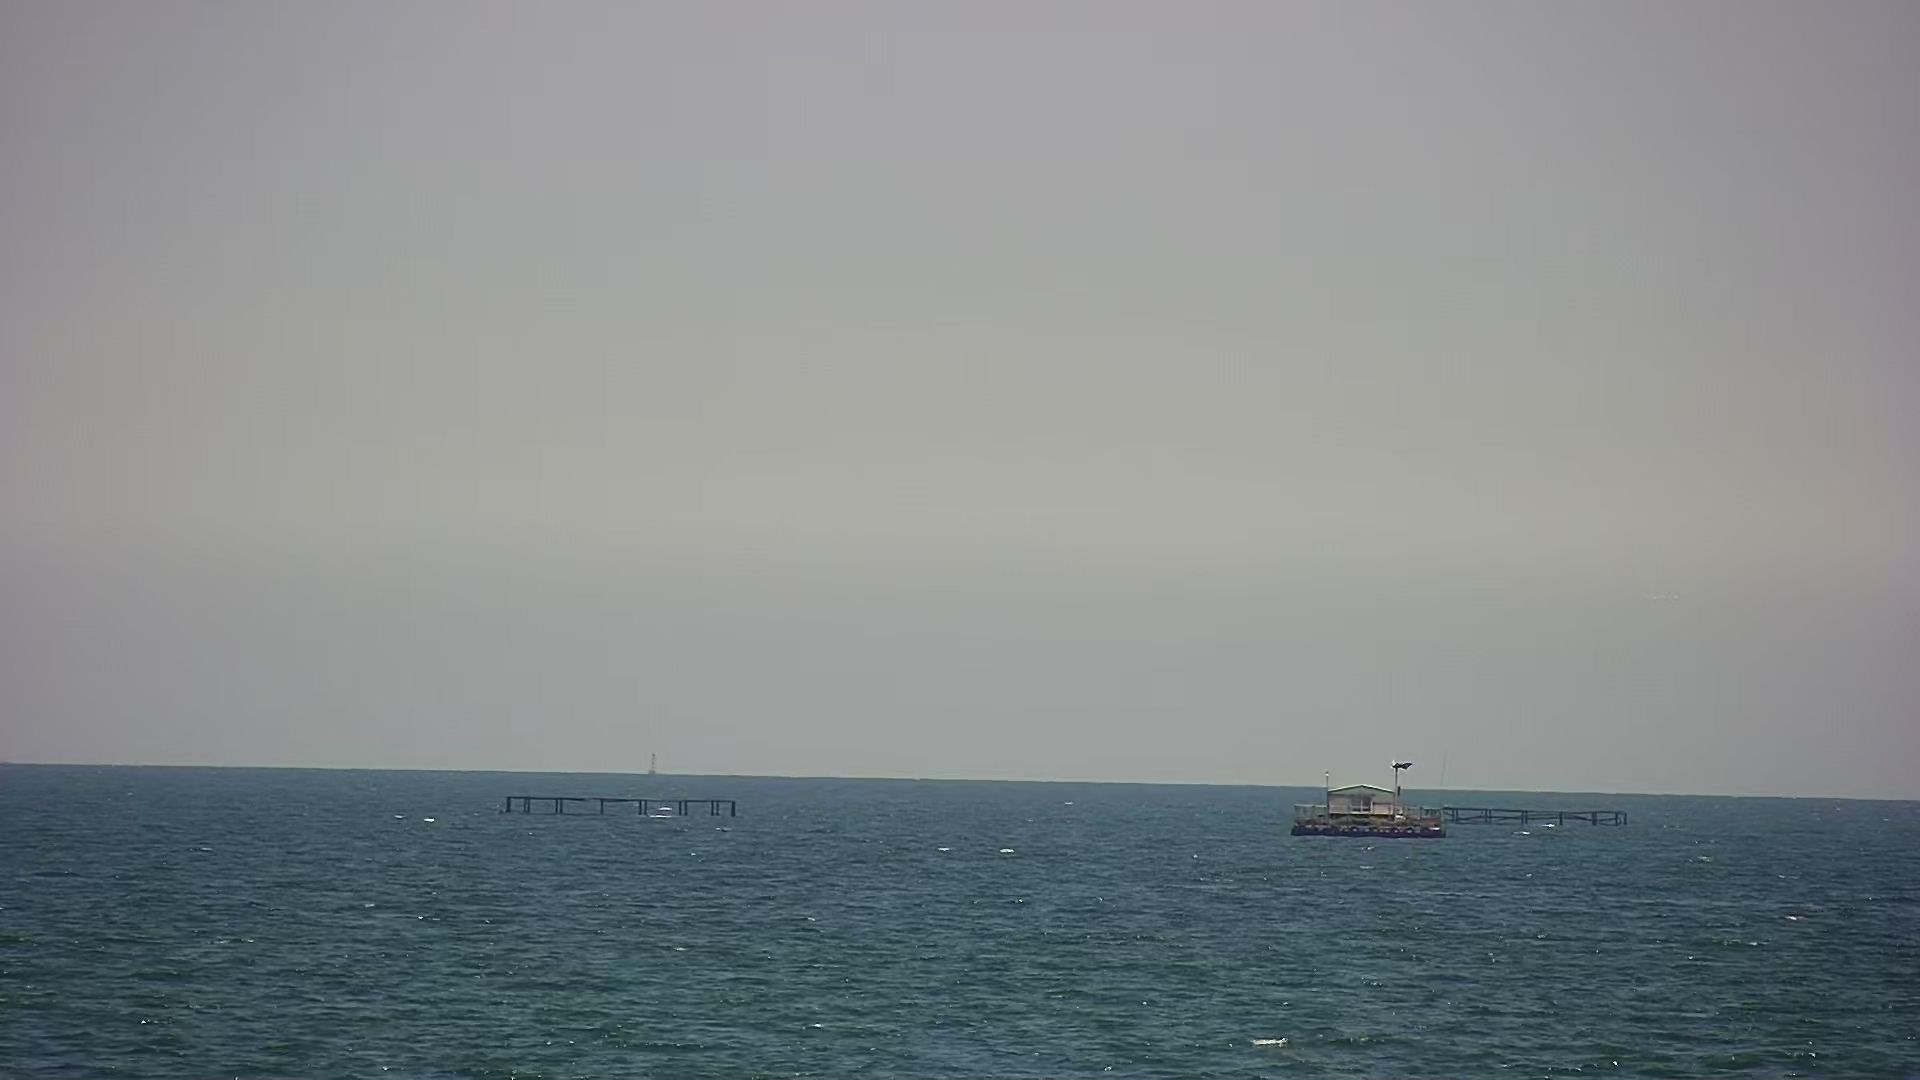buoy: (642, 742, 670, 781)
platform: (1292, 752, 1465, 847), (493, 778, 749, 824), (1424, 787, 1643, 835)
